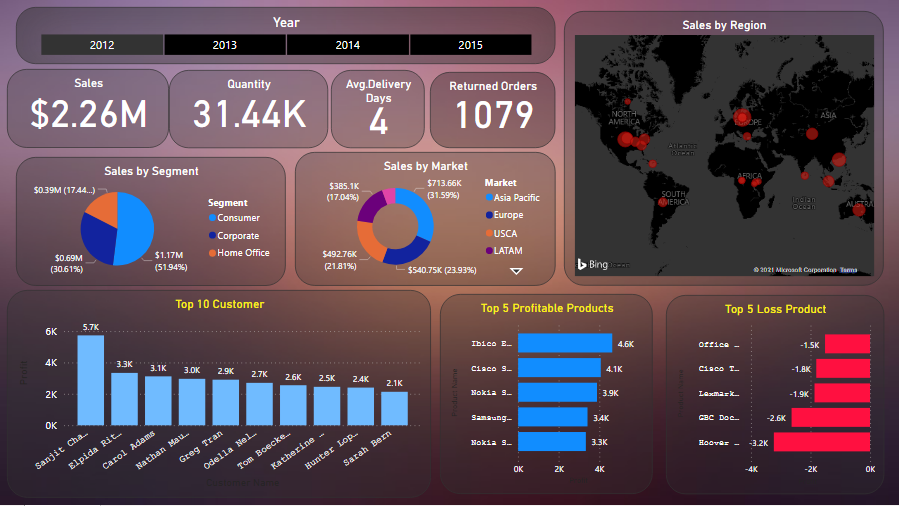

The dashboard page shown, as its layout file describes it:
{"tool":"powerbi","page":{"name":"Page 1","canvas":[1280,720],"ordinal":0},"visuals":[{"type":"card","title":"Sales","fields":{"Values":["Orders.Sales"]},"box":[11.4,100.8,230.1,112.2],"z":0},{"type":"card","title":"Quantity","fields":{"Values":["Orders.Quantity"]},"box":[241.4,102.2,225.8,110.8],"z":1000},{"type":"card","title":"Avg.Delivery Days","fields":{"Values":["Orders.Delivery Days"]},"box":[471.5,102.2,133.5,110.8],"z":2000},{"type":"slicer","title":"Year","fields":{"Values":["Orders.Year"]},"box":[23.5,13.4,766,80.6],"z":3000},{"type":"card","title":"Returned Orders","fields":{"Values":["Returns.Return Orders"]},"box":[612.1,105.1,177.5,107.9],"z":4000},{"type":"map","fields":{"Category":["Orders.Region"],"Size":["Orders.Sales"]},"box":[802.9,18.5,453.5,389.7],"z":5000},{"type":"clusteredBarChart","title":"Top 5 Profitable Products","fields":{"Category":["Orders.Product Name"],"Y":["Orders.Profit"]},"box":[626.6,419.9,302.4,283.9],"z":6000},{"type":"clusteredBarChart","title":"Top 5 Loss Product","fields":{"Category":["Orders.Product Name"],"Y":["Orders.Profit"]},"box":[947.2,421.8,309.6,282.6],"z":7000},{"type":"pieChart","fields":{"Category":["Orders.Segment"],"Y":["Orders.Sales"]},"box":[23.5,225.1,383,183.1],"z":8000},{"type":"donutChart","fields":{"Category":["Orders.Market"],"Y":["Orders.Sales"]},"box":[419.9,218.4,369.6,189.8],"z":9000},{"type":"clusteredColumnChart","title":"Top 10 Customer","fields":{"Y":["Orders.Profit"],"Category":["Orders.Customer Name"]},"box":[11.4,414.7,602.1,295.4],"z":10000}]}

Visuals, with their boxes in screenshot pixels (x1, y1, x2, y2), scaled from the page's 1280x720 canvas onto the 899x506 screenshot:
"Sales" card: 8:71:170:150
"Quantity" card: 170:72:328:150
"Avg.Delivery Days" card: 331:72:425:150
"Year" slicer: 17:9:555:66
"Returned Orders" card: 430:74:555:150
map - Orders.Region x Orders.Sales: 564:13:882:287
"Top 5 Profitable Products" clusteredBarChart: 440:295:652:495
"Top 5 Loss Product" clusteredBarChart: 665:296:883:495
pieChart - Orders.Segment x Orders.Sales: 17:158:286:287
donutChart - Orders.Market x Orders.Sales: 295:153:555:287
"Top 10 Customer" clusteredColumnChart: 8:291:431:499
